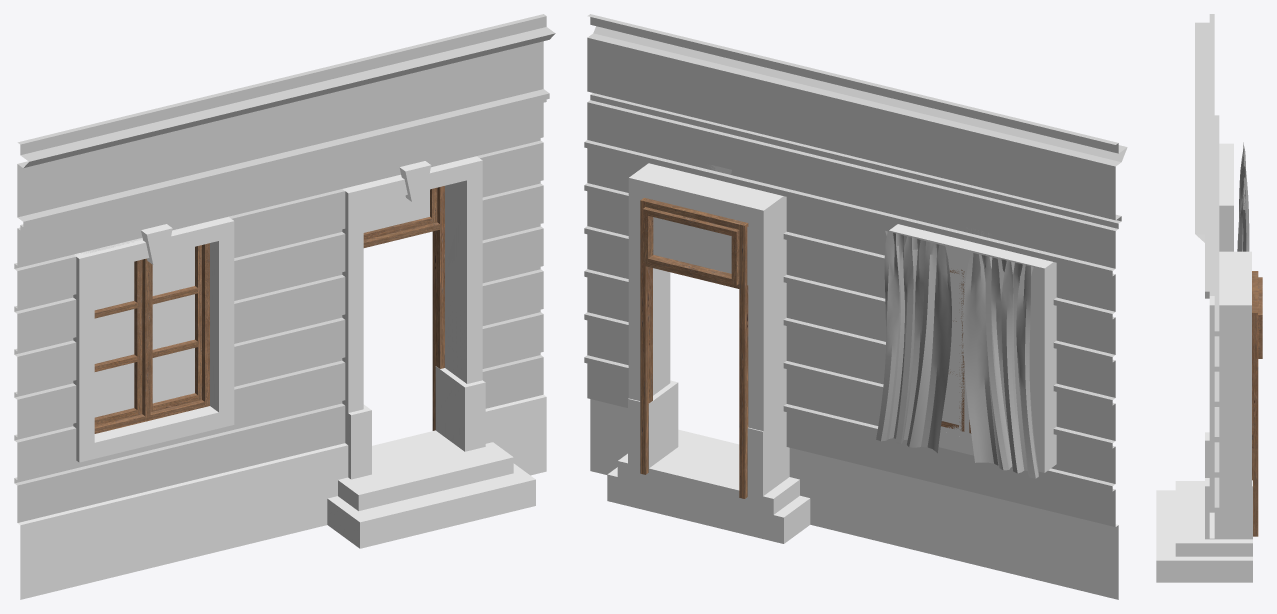
Rendered from Facade_Bottom_Door.fbx.
The picture shows the model from 3 angles, left to right: view 1: azimuth 30°, elevation 25°; view 2: azimuth 150°, elevation 25°; view 3: azimuth 270°, elevation 25°; orthographic projection. The views are drawn at different scales.
Visible parts, largest first — view 1: Facade_Bottom_Door; view 2: Facade_Bottom_Door; view 3: Facade_Bottom_Door.
Part boxes in pixels (left/top/right/bottom): Facade_Bottom_Door: left=14, top=14, right=555, bottom=599; Facade_Bottom_Door: left=584, top=14, right=1127, bottom=599; Facade_Bottom_Door: left=1156, top=14, right=1262, bottom=582.
Bounding box in the file's own units: 5.7 × 4.71 × 1.21.
